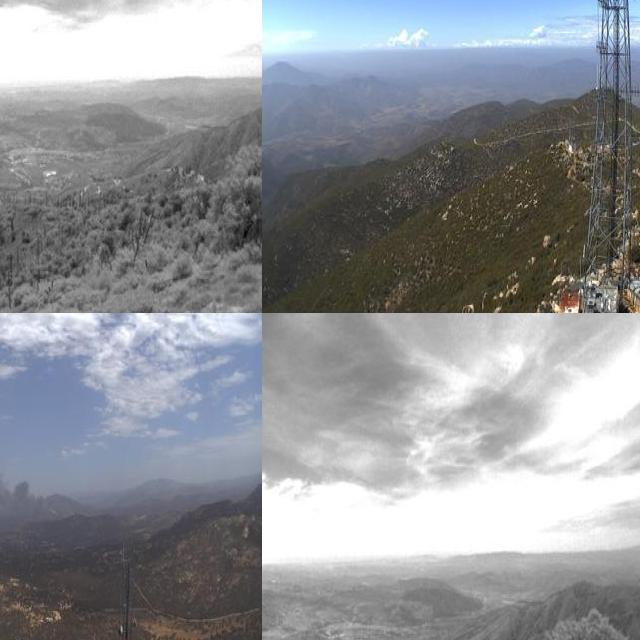smoke: (0, 452, 87, 520)
